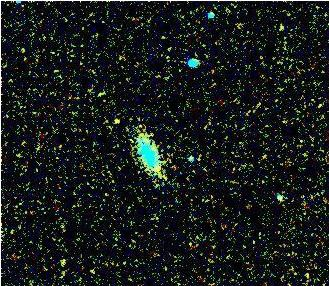star: (96, 104, 126, 134)
